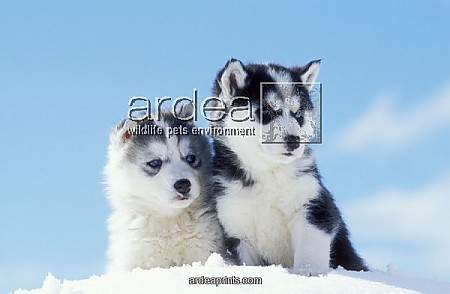dog: (101, 114, 223, 269)
